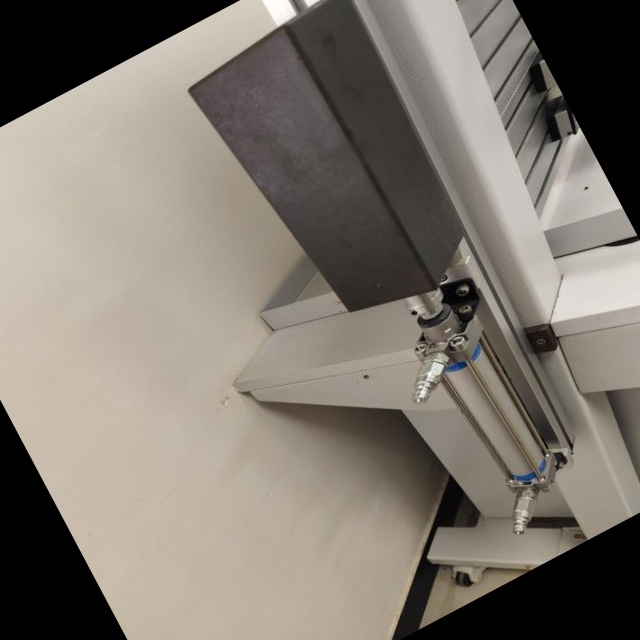load: (149, 0, 640, 598)
